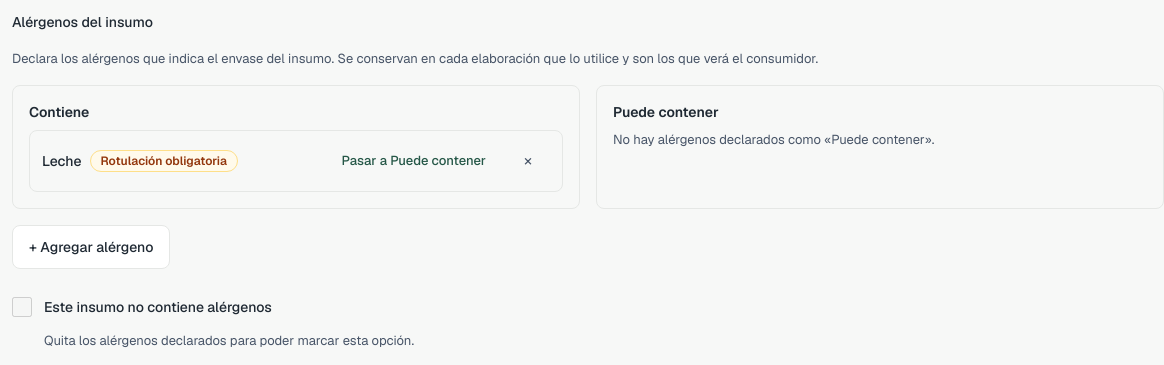
AlergenosSelector: comportamiento › quitar el último alérgeno vuelve a permitir la casilla, que sigue desmarcada
The image size is (1164, 365).
Step 1. Click the button named "Quitar alérgeno Leche" → (528, 161), box [506,139,550,183]
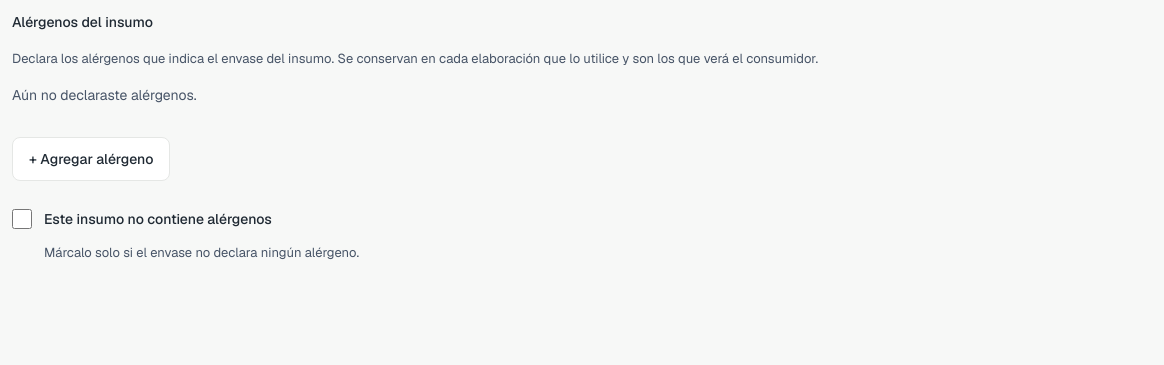
expect the checkbox labelled "Este insumo no contiene alérgenos" is not checked: met, box [12,209,32,229]
expect the checkbox labelled "Este insumo no contiene alérgenos" is enabled: met, box [12,209,32,229]
